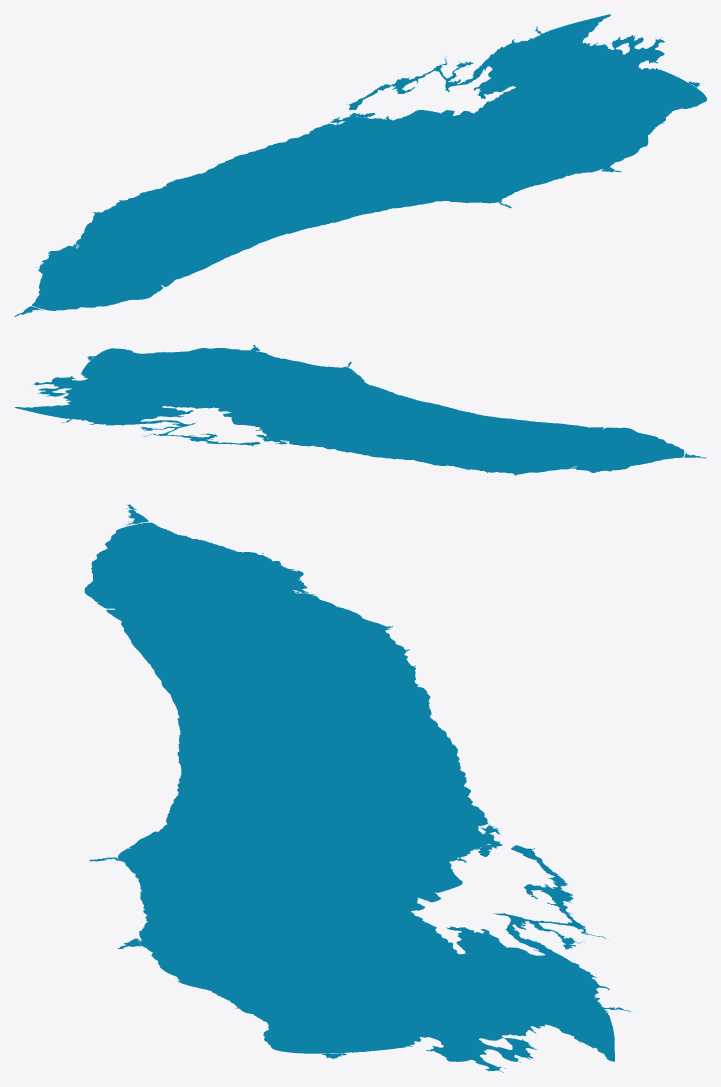
File: water.glb
3 renders of one model, top to bottom at view 1: azimuth 30°, elevation 25°; view 2: azimuth 150°, elevation 25°; view 3: azimuth 270°, elevation 25°, orthographic. The views are drawn at different scales.
Visible parts, largest first — view 1: water; view 2: water; view 3: water.
Boxes of the visible parts, x1,y1,x2,y2 form: water: (14, 14, 706, 316); water: (14, 345, 706, 475); water: (84, 504, 630, 1072).
Bounding box in the file's own units: 311635 × 38.04 × 127832.
